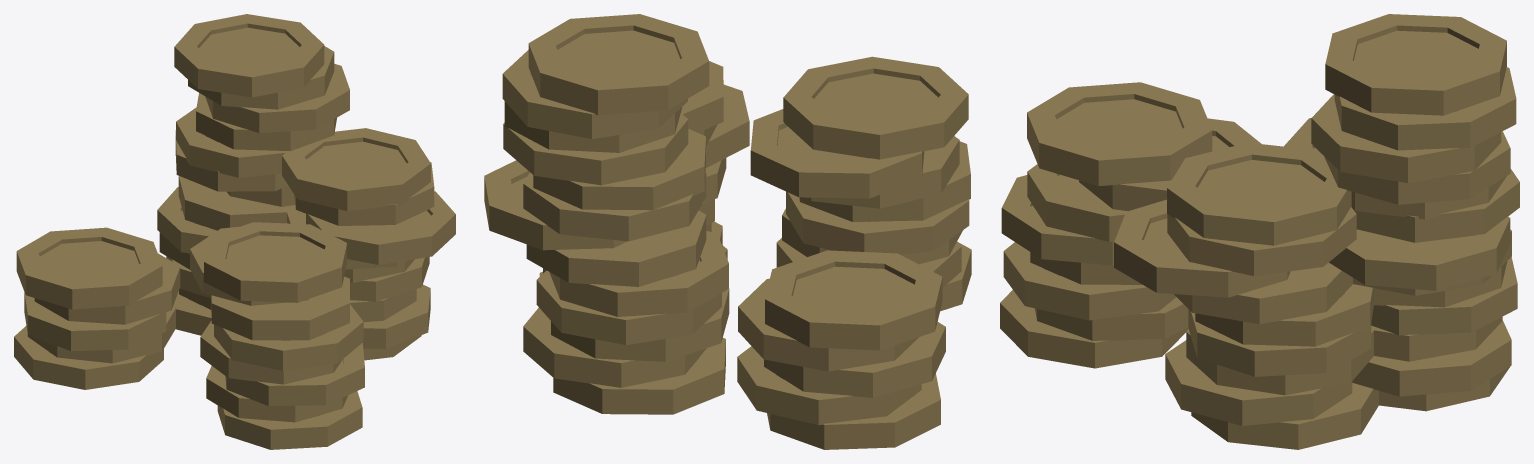
File: Coin_Pile.glb
The picture shows the model from 3 angles, left to right: view 1: azimuth 30°, elevation 25°; view 2: azimuth 150°, elevation 25°; view 3: azimuth 270°, elevation 25°; orthographic projection. The views are drawn at different scales.
Parts seen in each view (by area): view 1: Coin_Pile; view 2: Coin_Pile; view 3: Coin_Pile.
Boxes of the visible parts, x1,y1,x2,y2 form: Coin_Pile: (14,14,455,449); Coin_Pile: (484,14,971,449); Coin_Pile: (1000,14,1519,449).
Size of the model in its own units: 0.1364 by 0.0946 by 0.1354.
